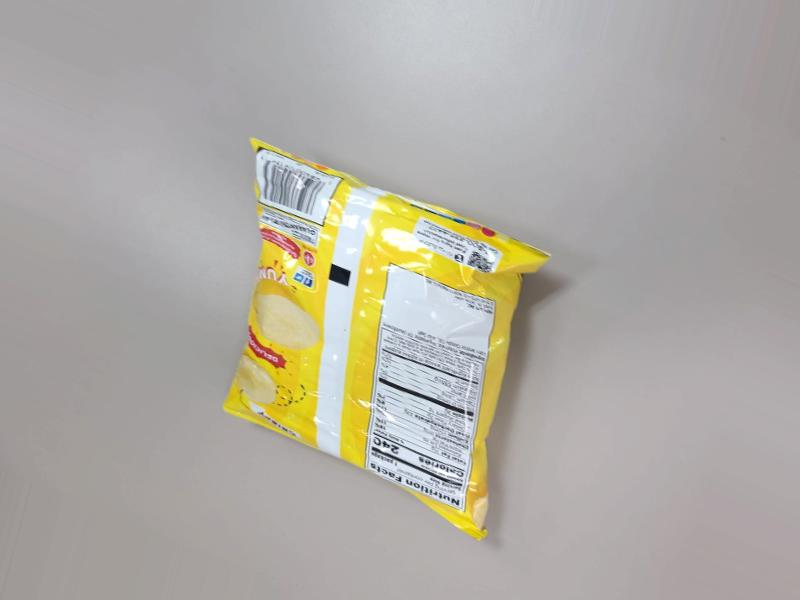lays: (248, 258, 579, 576)
